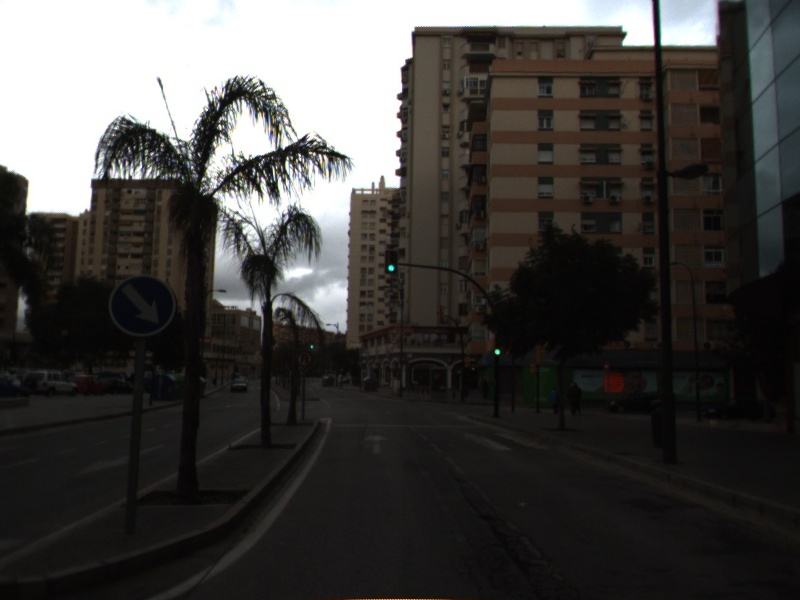STRAIGHT: (360, 431, 393, 457)
